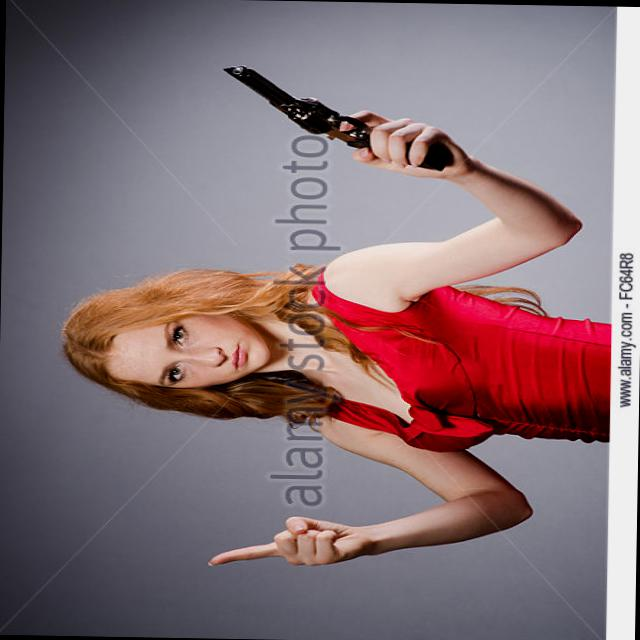handgun: (207, 62, 457, 178)
